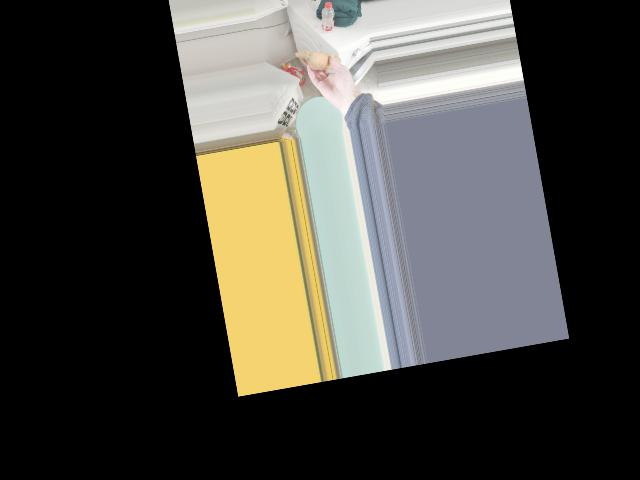sweet_potato: (307, 48, 337, 71)
